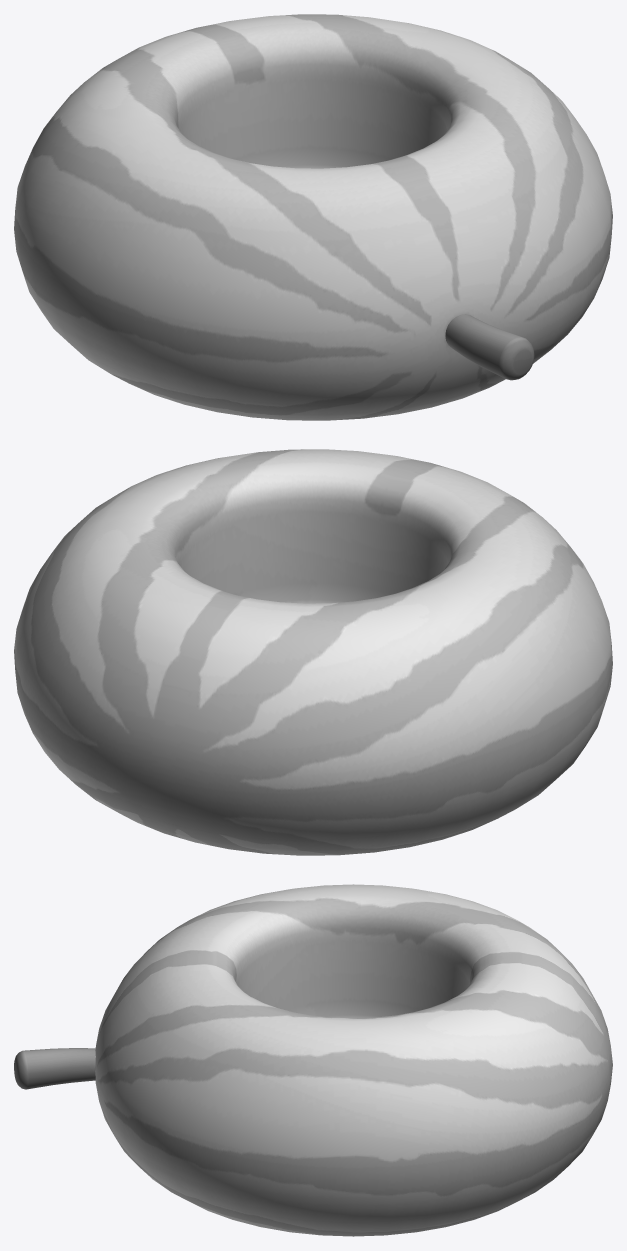
The model's file is Pin_Model_12.fbx.
The picture shows the model from 3 angles, top to bottom: view 1: azimuth 30°, elevation 25°; view 2: azimuth 150°, elevation 25°; view 3: azimuth 270°, elevation 25°; orthographic projection. The views are drawn at different scales.
Visible parts, largest first — view 1: Pin_WaterMelon; view 2: Pin_WaterMelon; view 3: Pin_WaterMelon.
Boxes of the visible parts, x1,y1,x2,y2 form: Pin_WaterMelon: (14,14,612,420); Pin_WaterMelon: (14,449,612,855); Pin_WaterMelon: (14,884,612,1236).
Bounding box in the file's own units: 0.5824 × 0.2593 × 0.672.
2 materials, 2 textured.
